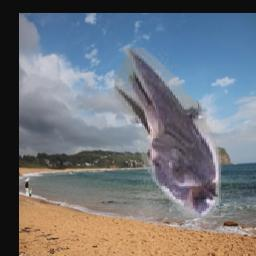Swallow: (113, 49, 222, 219)
